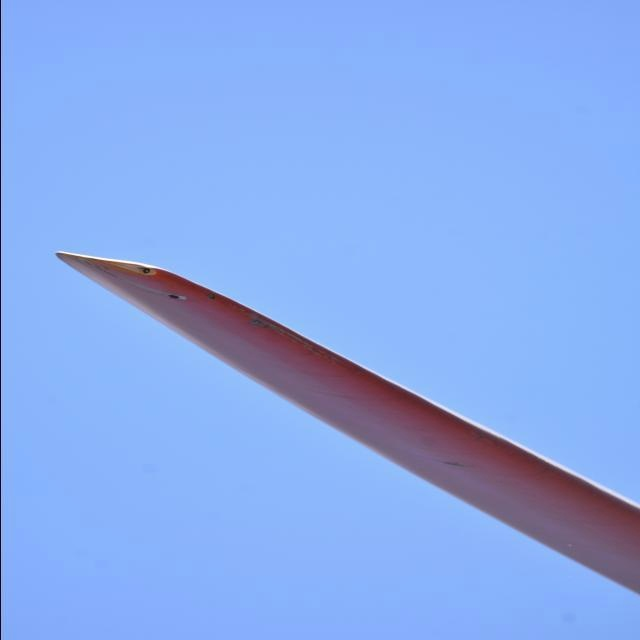Coating_defects: (133, 261, 163, 279), (203, 285, 226, 307)
EROSION: (251, 312, 344, 364)
